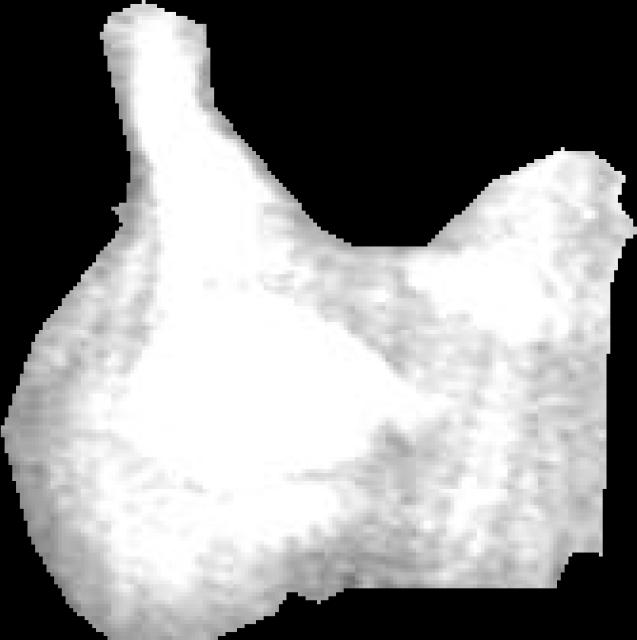tumor_moderate_chance: (1, 0, 637, 640)
